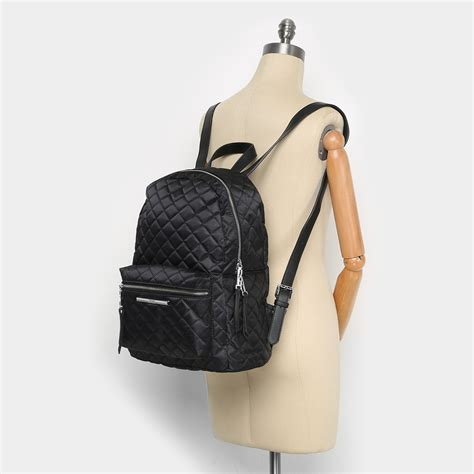nylon: (118, 165, 275, 372)
